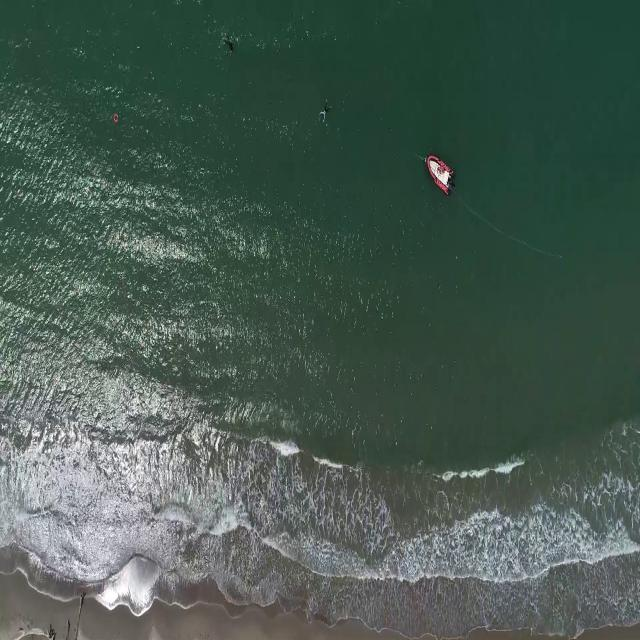boat: (426, 151, 453, 196)
life_buoy: (112, 112, 120, 124)
person: (319, 100, 333, 125), (222, 35, 237, 54)
wood: (64, 589, 86, 640), (0, 623, 61, 639)
